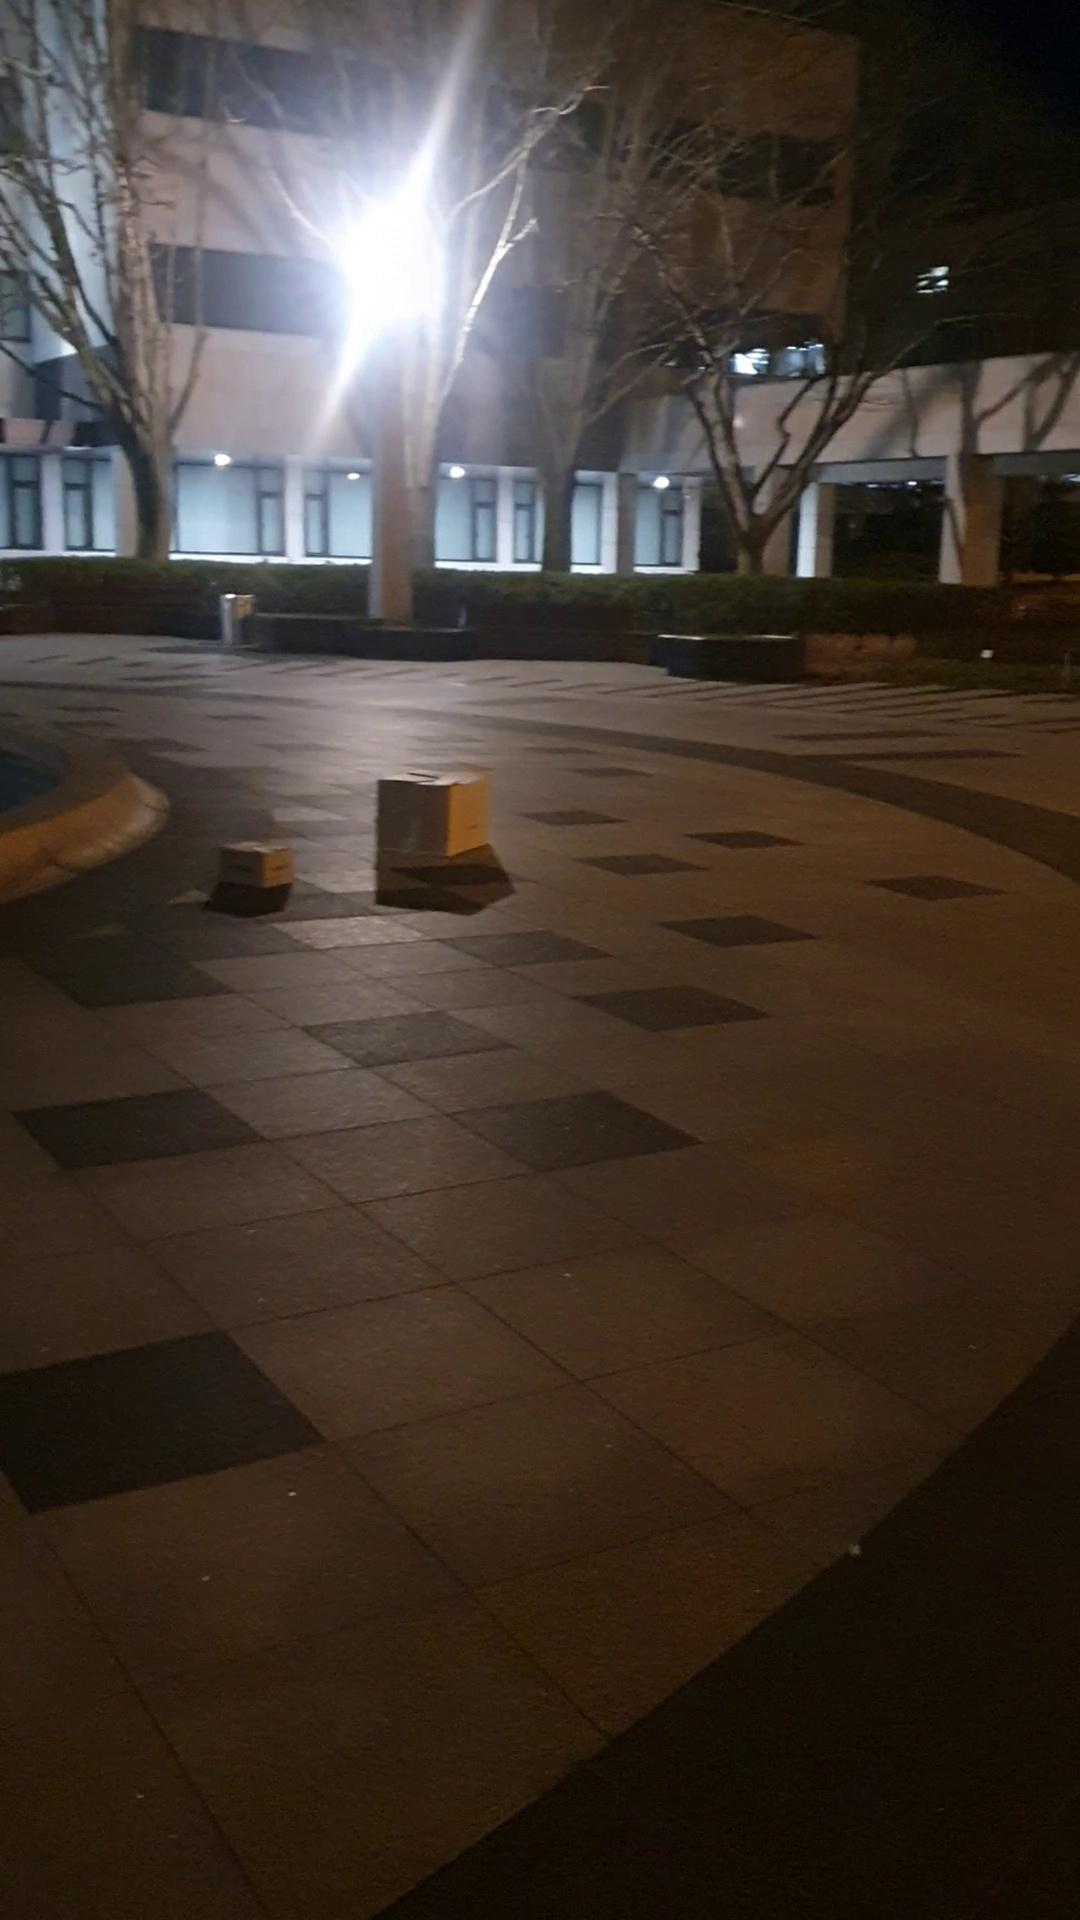Box: (368, 760, 502, 885), (208, 828, 297, 893)
